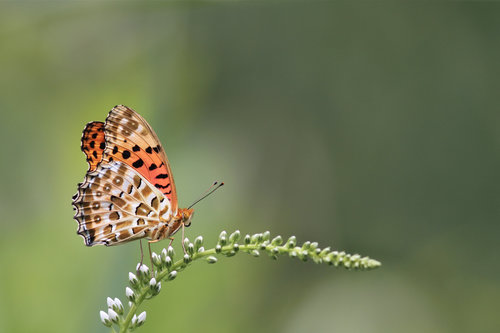Argyreus hyperbius: (66, 98, 226, 270)
butterfly: (68, 100, 228, 272)
